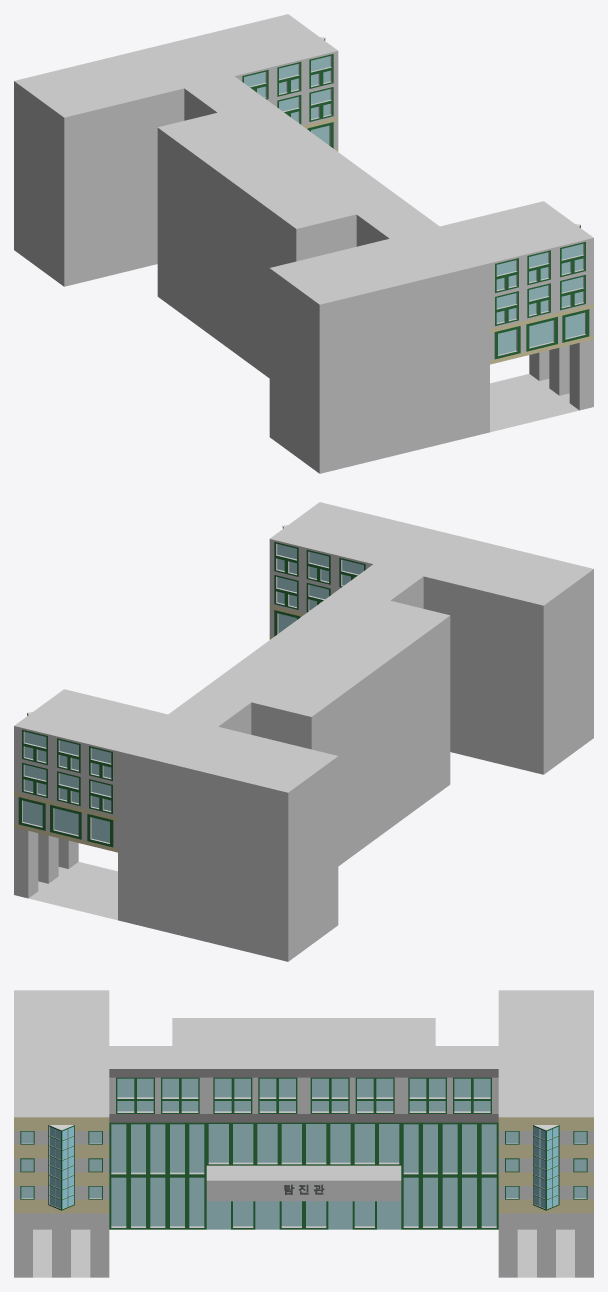
Rendered from D realfinal.fbx.
The picture shows the model from 3 angles, top to bottom: view 1: azimuth 30°, elevation 25°; view 2: azimuth 150°, elevation 25°; view 3: azimuth 270°, elevation 25°; orthographic projection. The views are drawn at different scales.
Visible parts, largest first — view 1: tam; view 2: tam; view 3: tam, 큐브.001, 큐브.002.
Part boxes in pixels (x1,y1,x2,y2): tam: (14,14,593,473); tam: (14,502,593,961); tam: (14,990,593,1277); 큐브.001: (533,1125,559,1210); 큐브.002: (48,1125,74,1210).
Size of the model in its own units: 7087 by 4000 by 13108.
